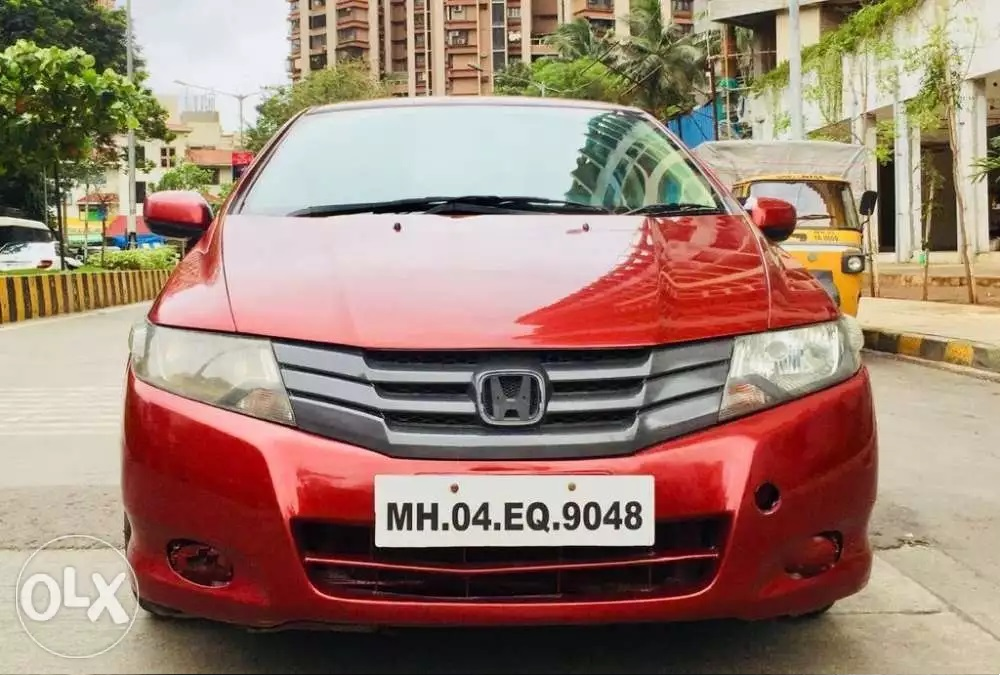licenseplate: (372, 470, 657, 549)
